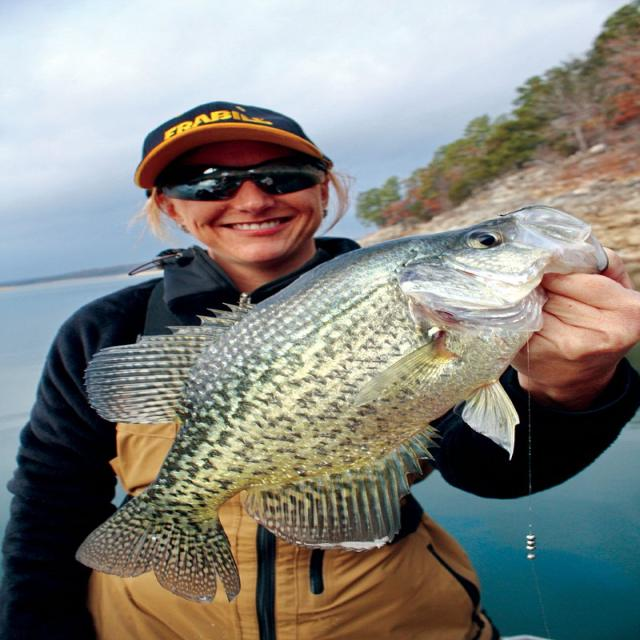Crappie - Black: (77, 206, 608, 601)
